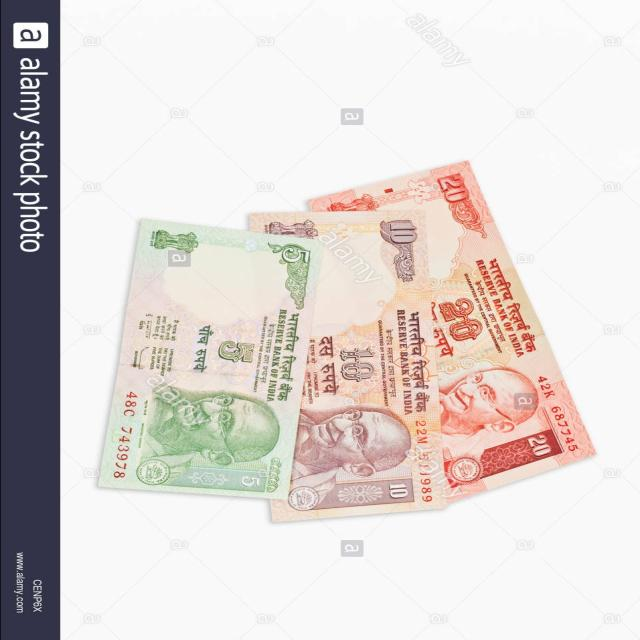20IndianRupees: (326, 162, 604, 494)
